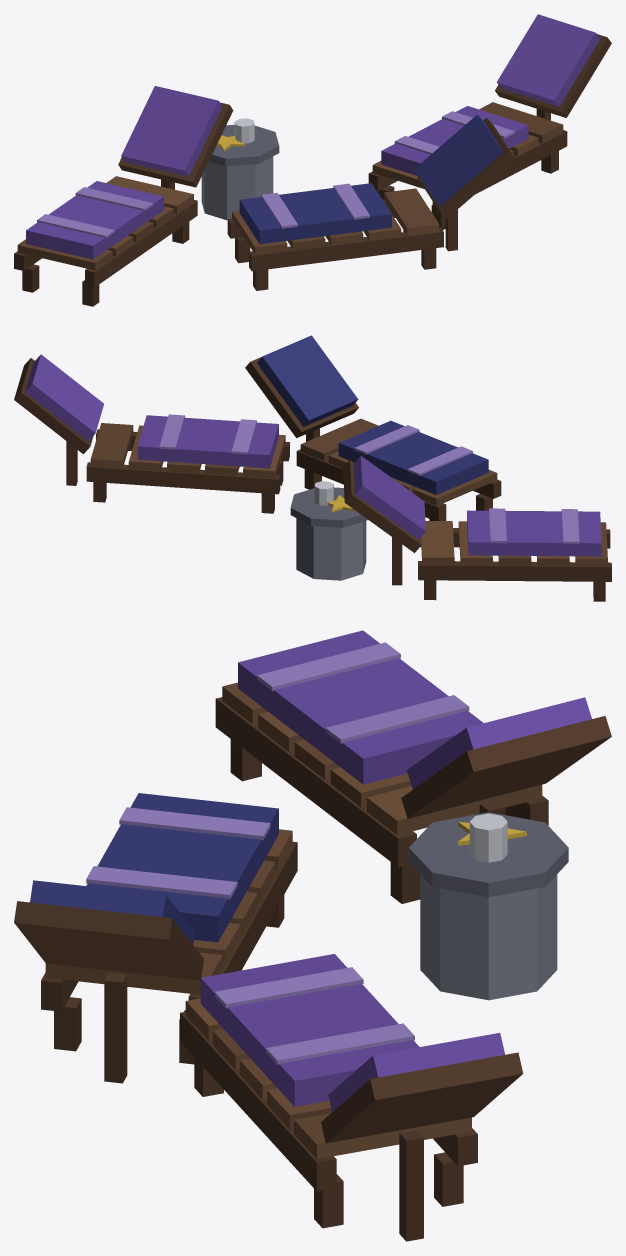
The model's file is Decor_Observatory_Loungers.fbx.
The picture shows the model from 3 angles, top to bottom: view 1: azimuth 30°, elevation 25°; view 2: azimuth 150°, elevation 25°; view 3: azimuth 270°, elevation 25°; orthographic projection. The views are drawn at different scales.
Parts seen in each view (by area): view 1: Loungers_Body; view 2: Loungers_Body; view 3: Loungers_Body.
Part boxes in pixels (bbox=[...]): Loungers_Body: bbox=[14, 14, 611, 306]; Loungers_Body: bbox=[14, 335, 611, 601]; Loungers_Body: bbox=[14, 630, 611, 1241].
Bounding box in the file's own units: 15.96 × 2.92 × 7.22.
